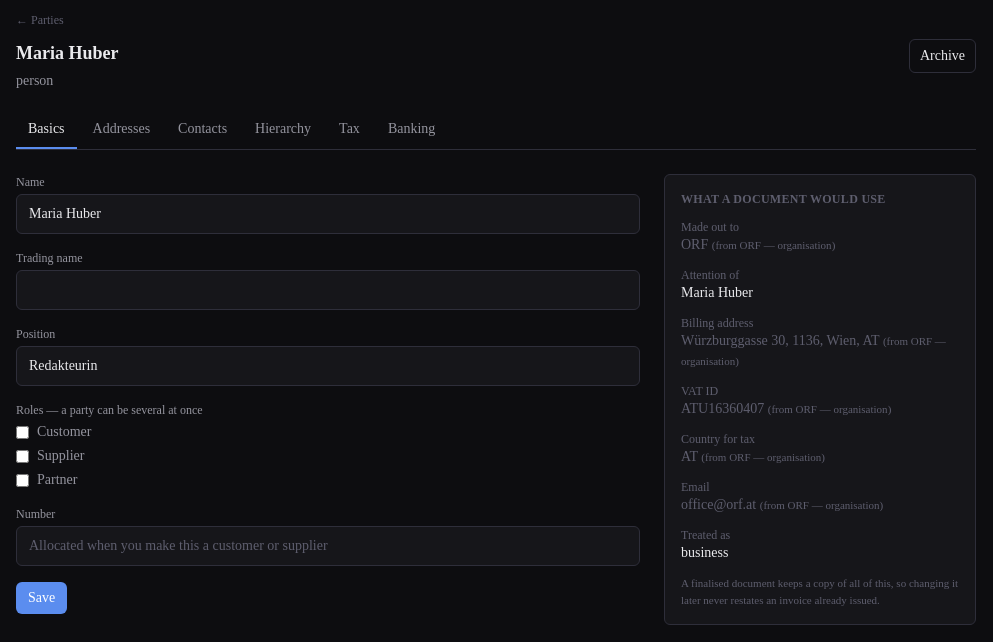
hierarchy and archiving › lists the children
Click the tab "Hierarchy".
click(283, 130)  # box 243,111 -> 323,149
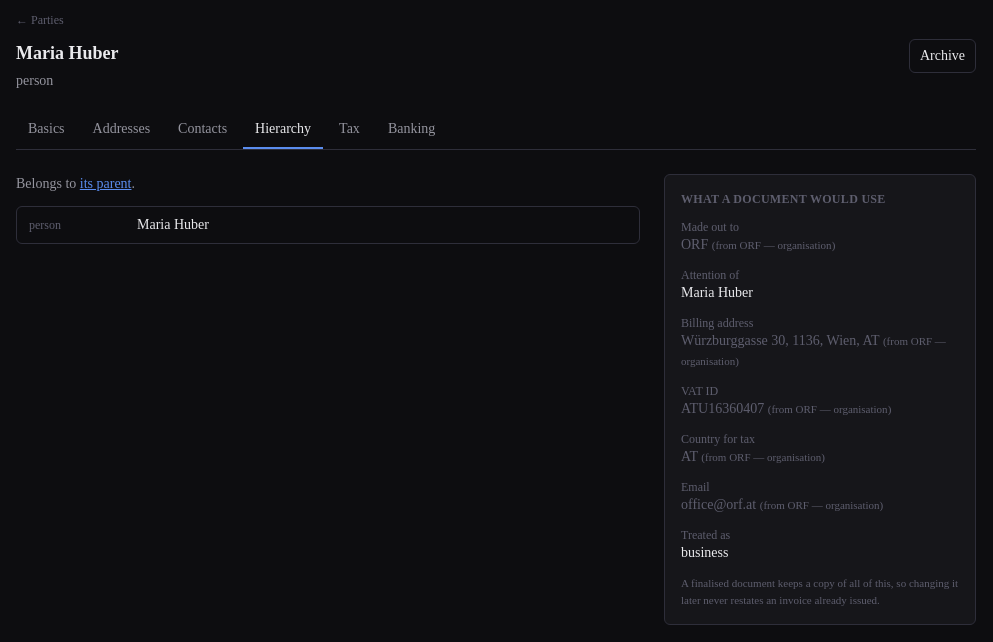
expect the link with test id "party-child-p-child" shows "Maria Huber": met, box 16,206 -> 640,244
